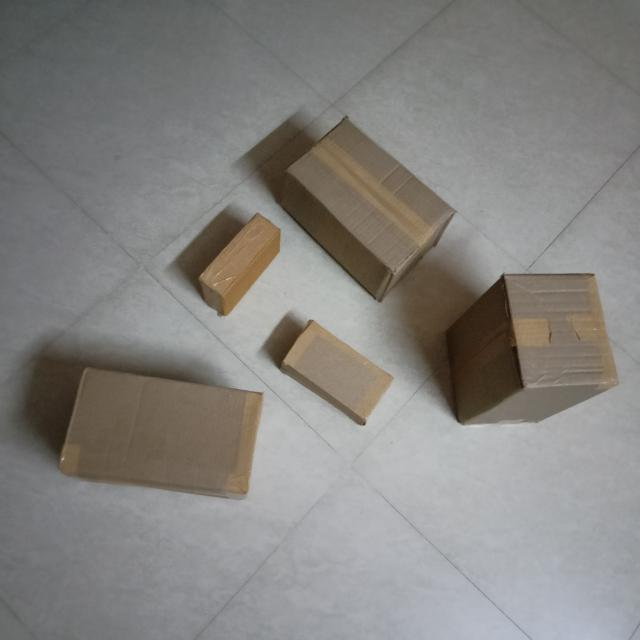box: (64, 370, 265, 490), (295, 119, 453, 270), (508, 273, 620, 382), (288, 320, 395, 419), (206, 213, 279, 294)
